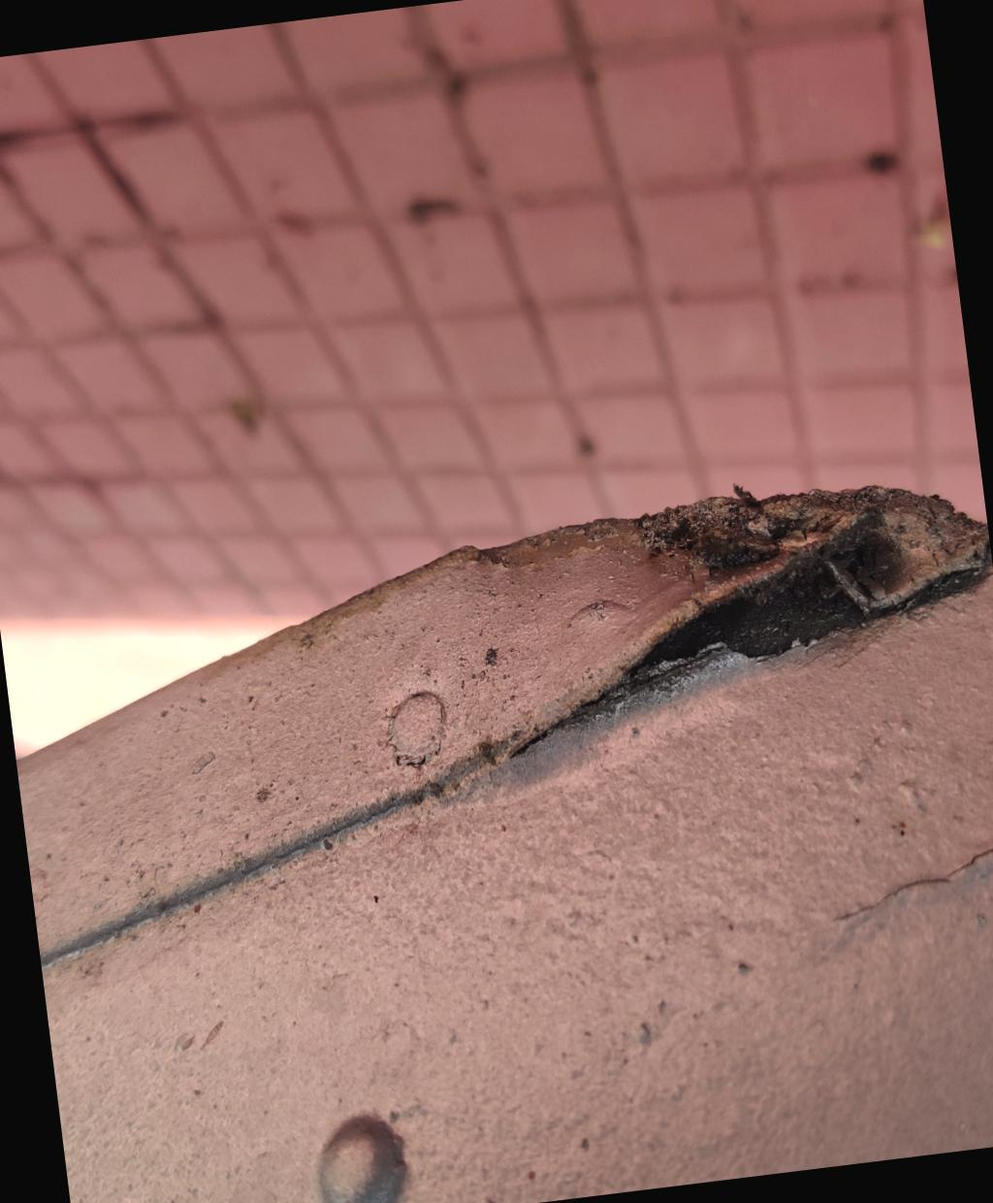crack: (580, 461, 950, 757)
